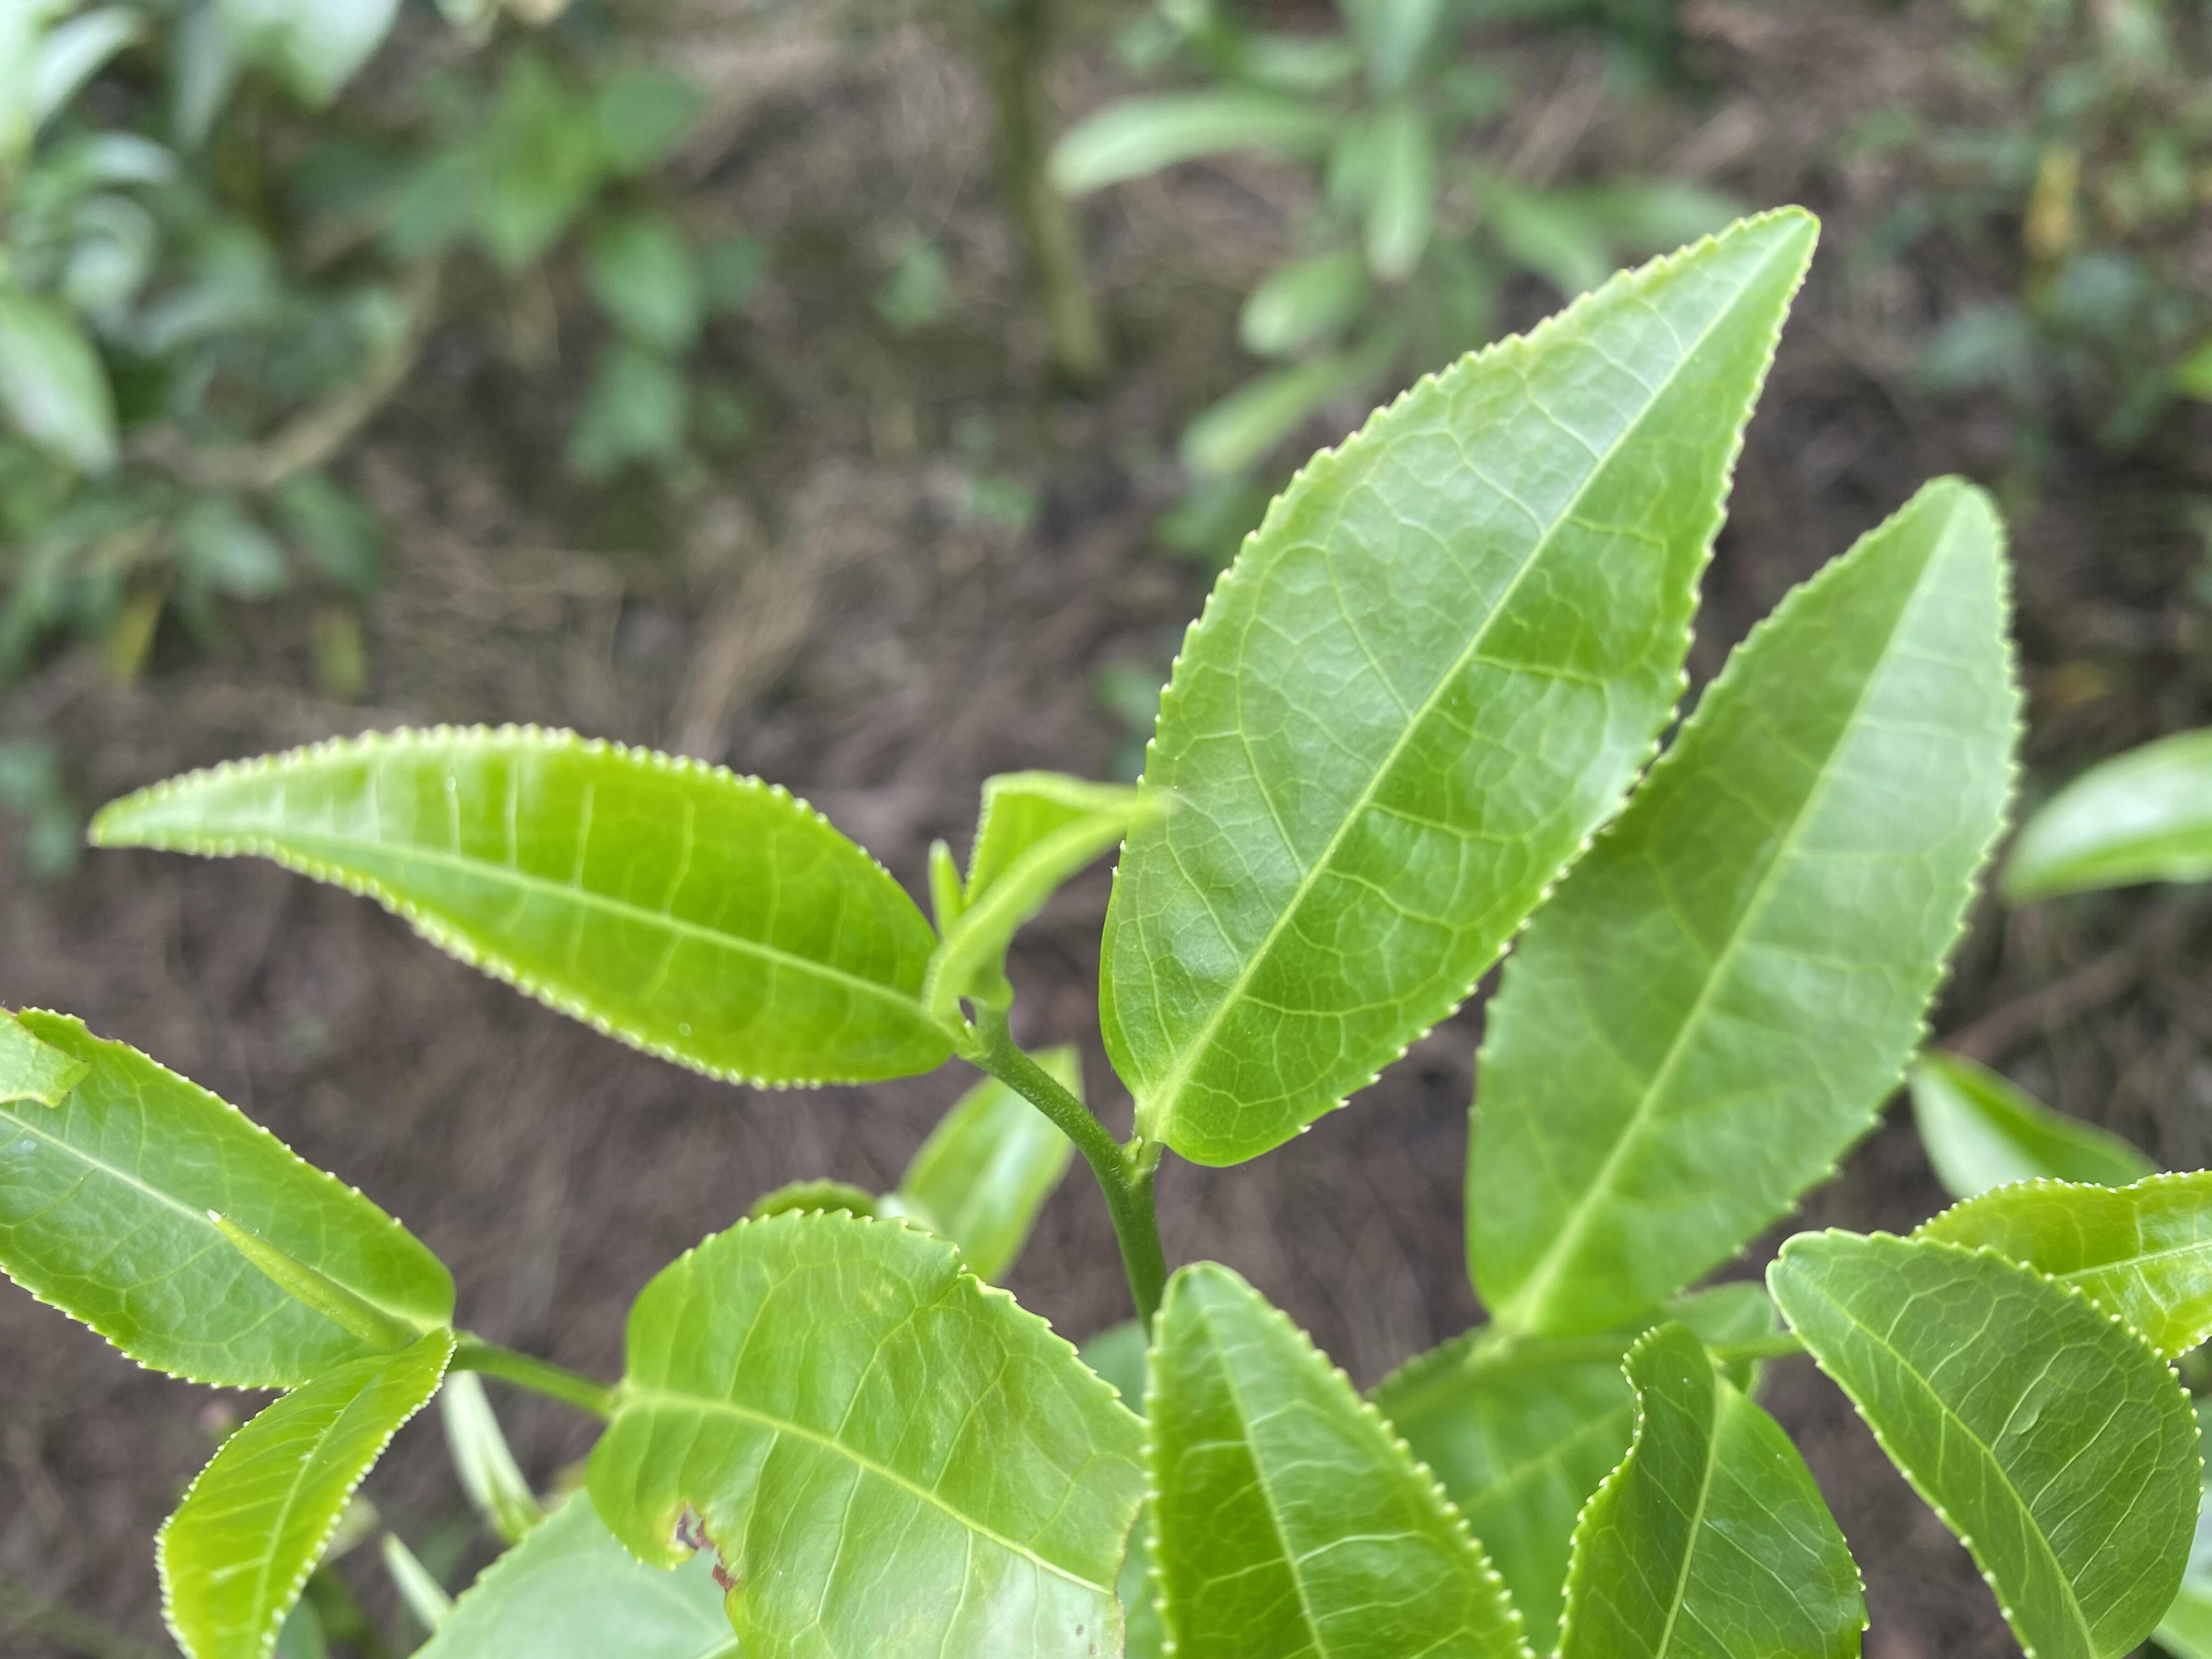chihuo_high: (580, 1208, 1148, 1657)
healthy: (1103, 207, 1820, 1169), (1460, 474, 2029, 1338), (84, 718, 951, 1091), (1764, 1225, 2203, 1656), (1141, 1260, 1538, 1656), (1548, 1319, 1874, 1654), (150, 1328, 455, 1657)
